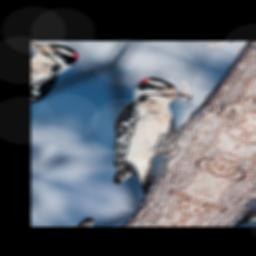Woodpecker: (73, 73, 215, 195)
